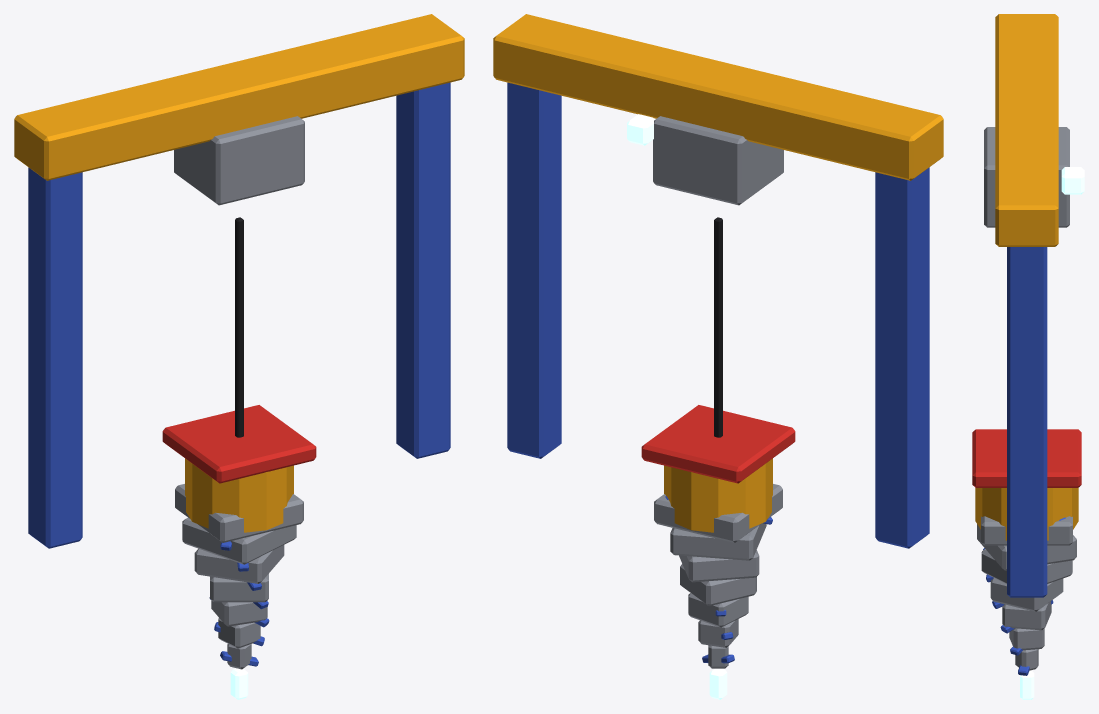
File: tool_megadrill.fbx
The picture shows the model from 3 angles, left to right: view 1: azimuth 30°, elevation 25°; view 2: azimuth 150°, elevation 25°; view 3: azimuth 270°, elevation 25°; orthographic projection. The views are drawn at different scales.
Visible parts, largest first — view 1: Root, Bit, Cable; view 2: Root, Bit, Cable; view 3: Root, Bit.
Boxes of the visible parts, x1,y1,x2,y2 form: Root: [14, 14, 464, 548]; Bit: [162, 405, 316, 699]; Cable: [235, 217, 243, 437]; Root: [493, 14, 943, 548]; Bit: [641, 405, 795, 699]; Cable: [714, 217, 722, 437]; Root: [984, 14, 1084, 597]; Bit: [972, 429, 1081, 699].
Size of the model in its own units: 16 by 22.6 by 3.9.
